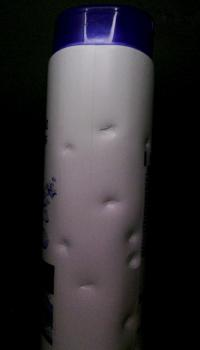dent_unacceptable: (115, 223, 147, 280), (113, 306, 139, 338), (52, 233, 82, 259), (88, 118, 124, 139), (95, 190, 127, 211), (55, 141, 88, 160), (72, 277, 102, 297), (136, 134, 156, 154)
